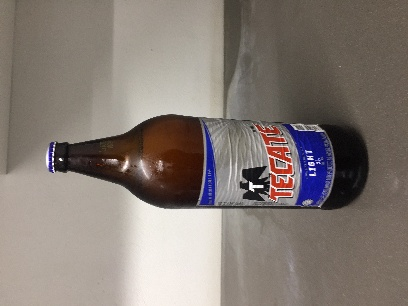TLB: (31, 79, 269, 153)
